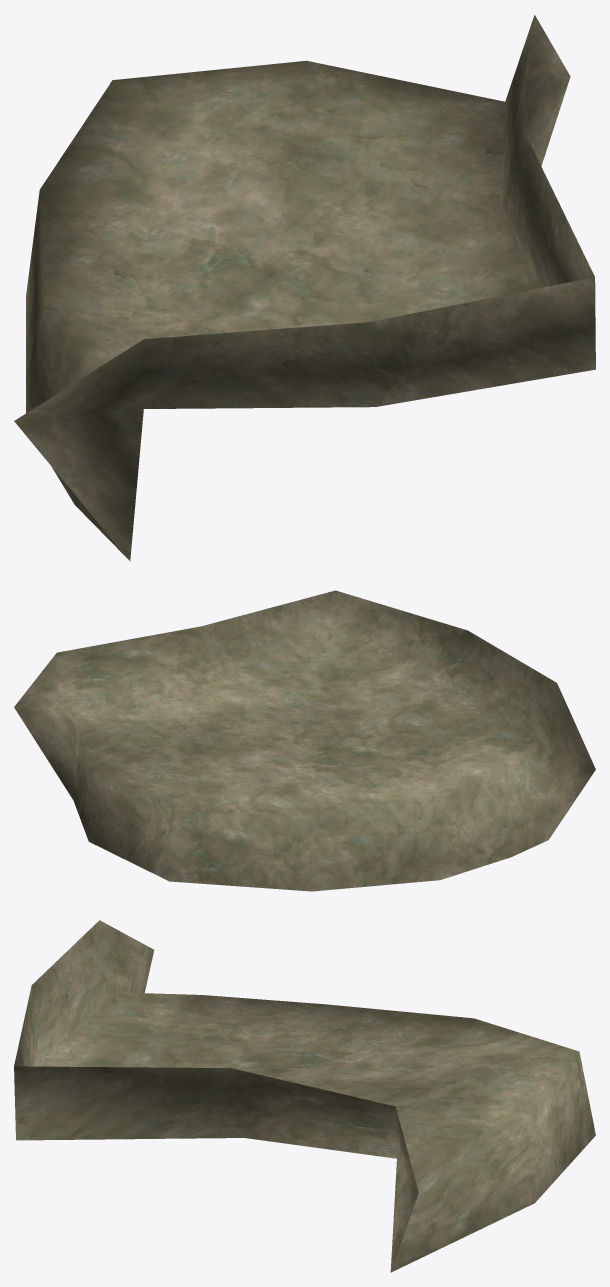
File: EKH_GROTTO_PS_GR_LINE15.fbx
3 renders of one model, top to bottom at view 1: azimuth 30°, elevation 25°; view 2: azimuth 150°, elevation 25°; view 3: azimuth 270°, elevation 25°, orthographic. The views are drawn at different scales.
Visible parts, largest first — view 1: EKH_GROTTO_PS_GR_LINE15; view 2: EKH_GROTTO_PS_GR_LINE15; view 3: EKH_GROTTO_PS_GR_LINE15.
Boxes of the visible parts, box(x1,y1,x2,y2) form: EKH_GROTTO_PS_GR_LINE15: box(14, 15, 595, 560); EKH_GROTTO_PS_GR_LINE15: box(14, 590, 595, 891); EKH_GROTTO_PS_GR_LINE15: box(14, 920, 595, 1272).
Bounding box in the file's own units: 39147 × 14227 × 34860.
Materials: 1 (1 with a texture image).
